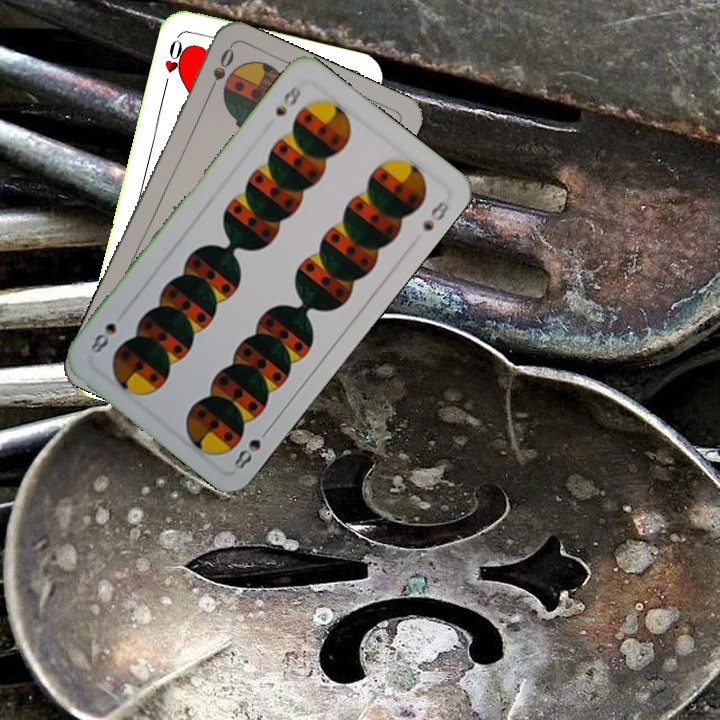HO: (160, 32, 190, 91)
S8: (229, 422, 274, 472), (271, 81, 308, 119)
SO: (203, 43, 237, 99)
